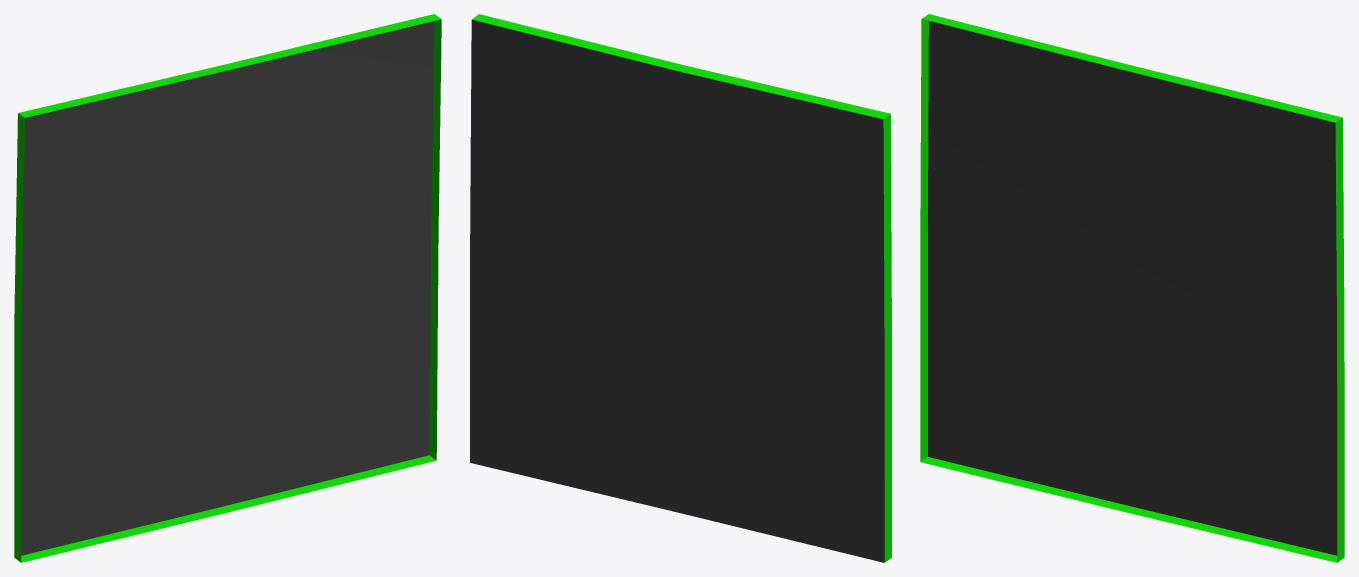
Rendered from B_ordre 2.fbx.
3 renders of one model, left to right at view 1: azimuth 30°, elevation 25°; view 2: azimuth 150°, elevation 25°; view 3: azimuth 330°, elevation 25°, orthographic.
Parts seen in each view (by area): view 1: Ordre 2; view 2: Ordre 2; view 3: Ordre 2.
Part boxes in pixels (left/top/right/bottom): Ordre 2: left=14, top=14, right=441, bottom=562; Ordre 2: left=470, top=14, right=891, bottom=562; Ordre 2: left=920, top=14, right=1344, bottom=562.
Size of the model in its own units: 13.17 by 13.41 by 0.5842.
